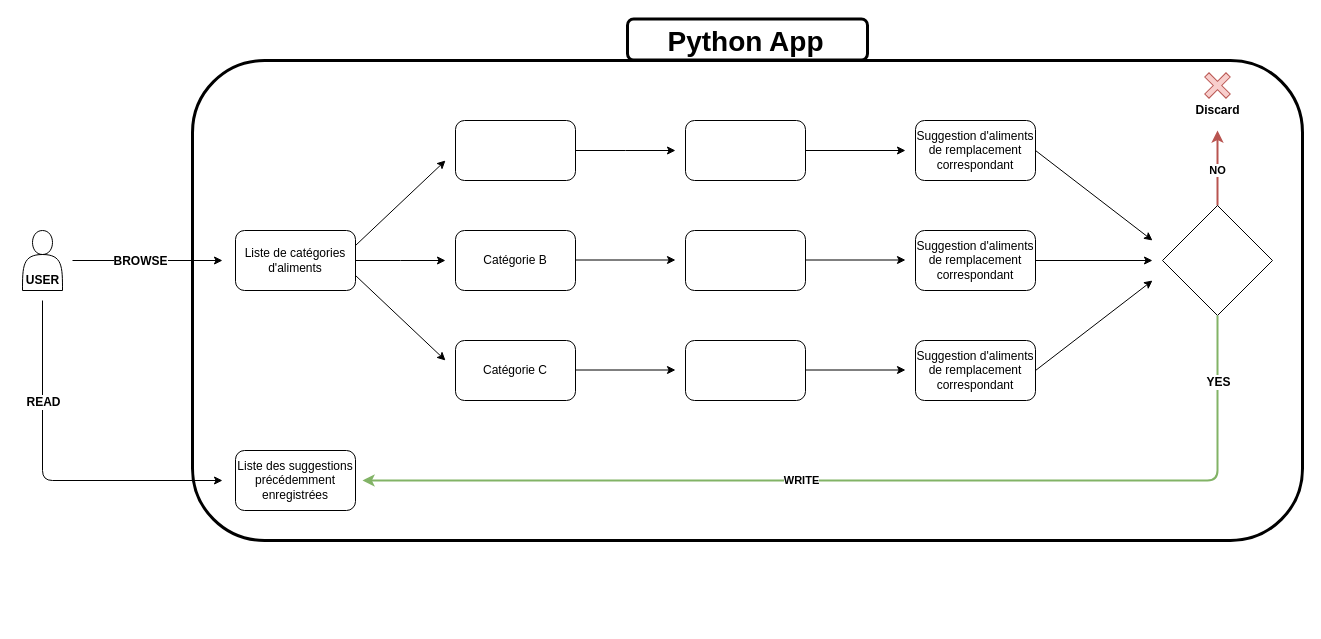
Image size: 1321x639. Some labels were removed from this diagram. The shapes that lost their labels are listed below. From the top down, each one's centre as x and y in pixels, then its label:
point (515, 150): Catégorie A
point (745, 150): Liste d'aliments de la catégorie A
point (745, 260): Liste d'aliments de la catégorie B
point (1217, 260): Enregistrer la suggestion ?
point (745, 370): Liste d'aliments de la catégorie C
